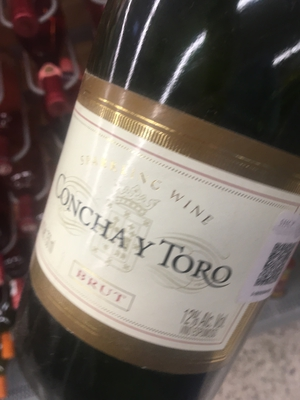brut: (28, 19, 296, 400)
